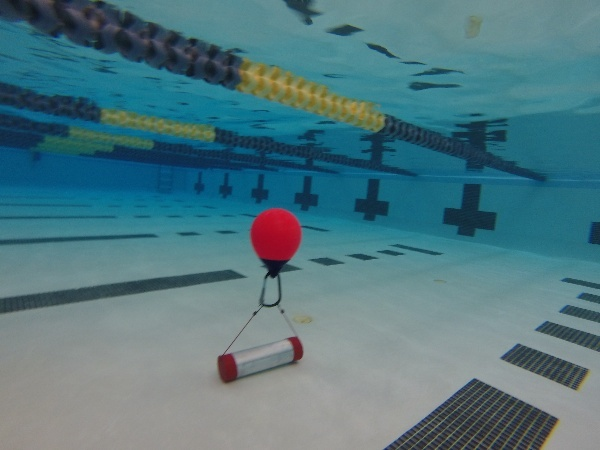buoy_red: (246, 204, 306, 284)
